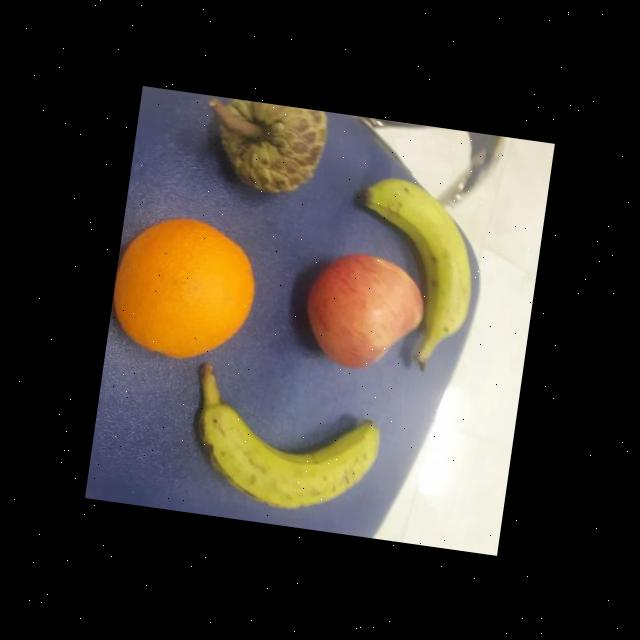Sakya fruit: (208, 96, 335, 201)
apple: (294, 243, 432, 380)
banana: (183, 394, 387, 523)
orange: (106, 204, 267, 368)
